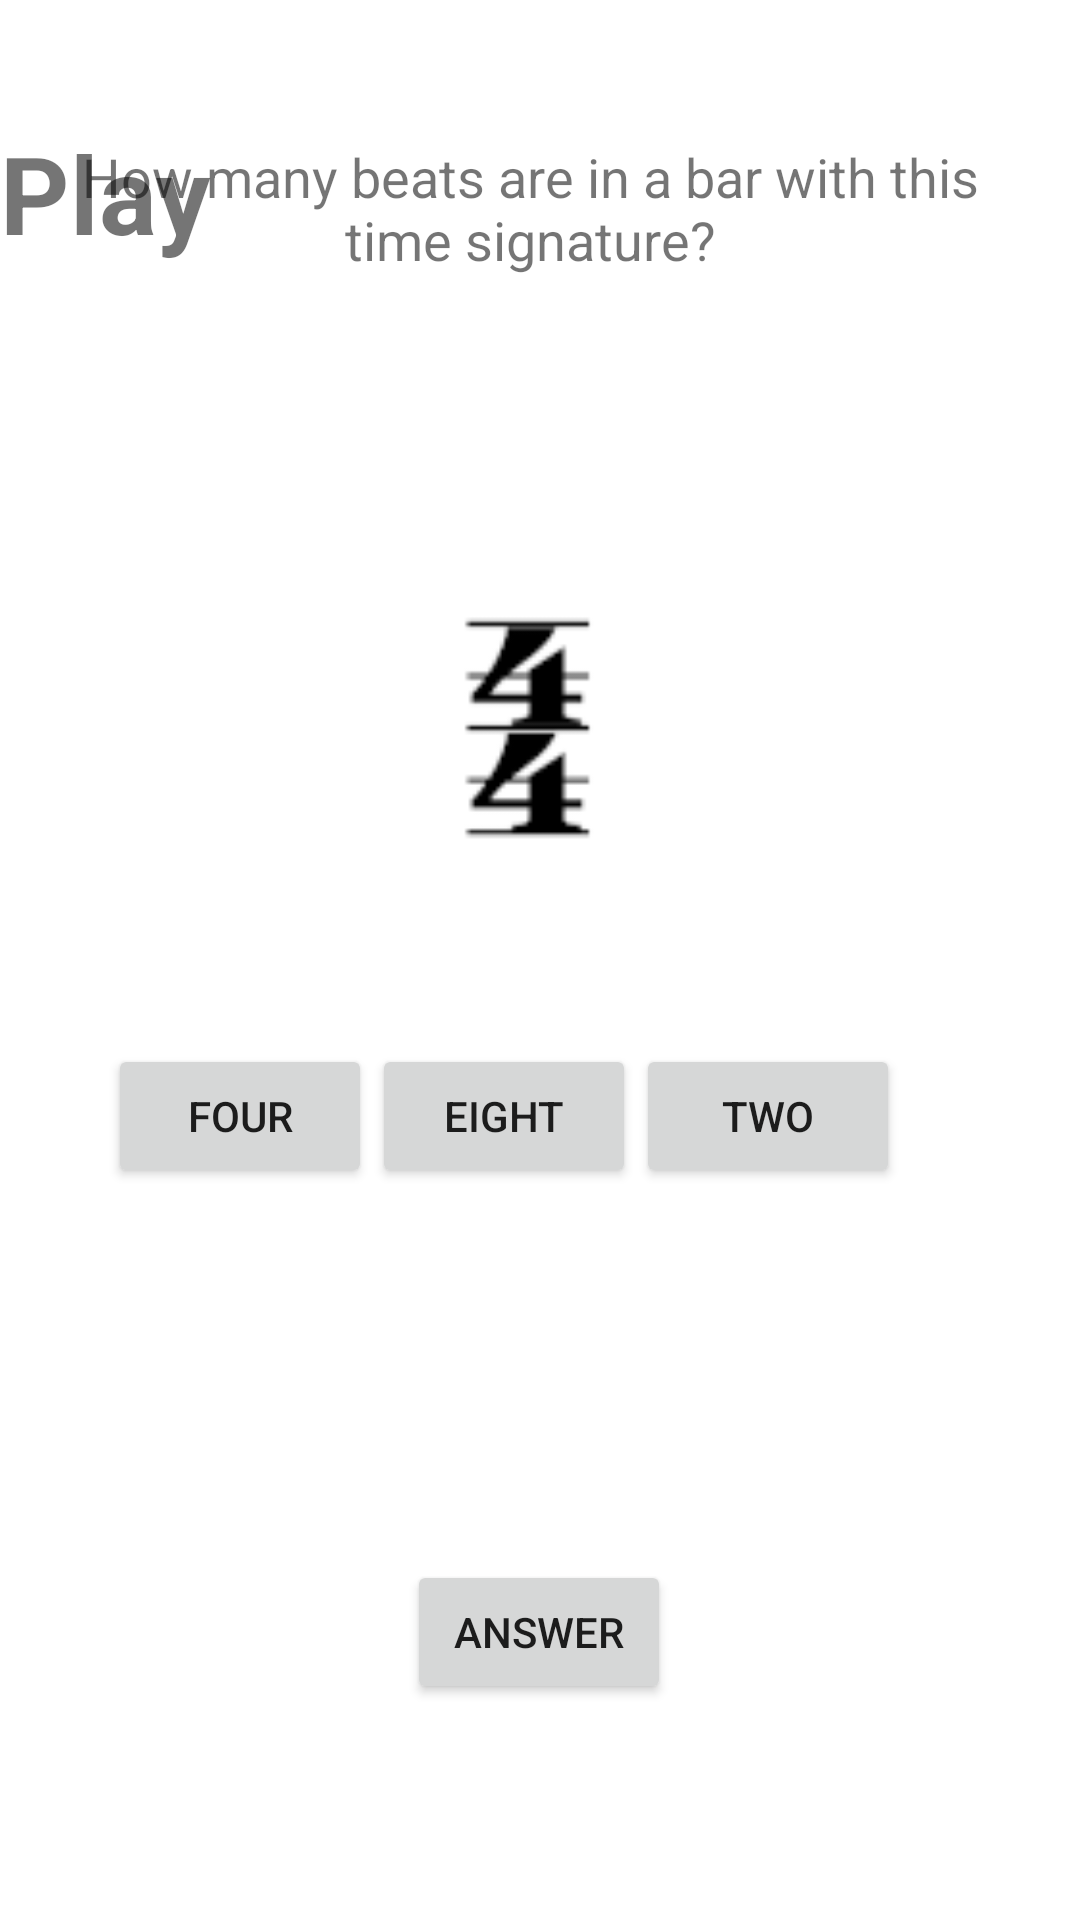

Icon click points for this 1080*1920 phone screenshot, format (x=x, y=y):
rhythm: (x=527, y=728)
